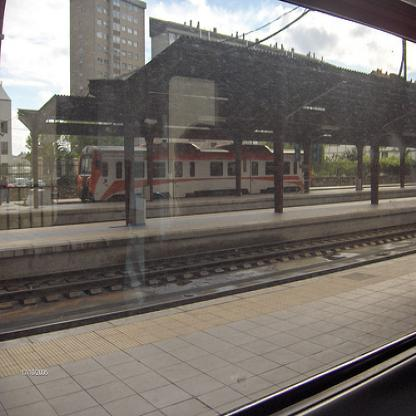train: (76, 138, 312, 202)
